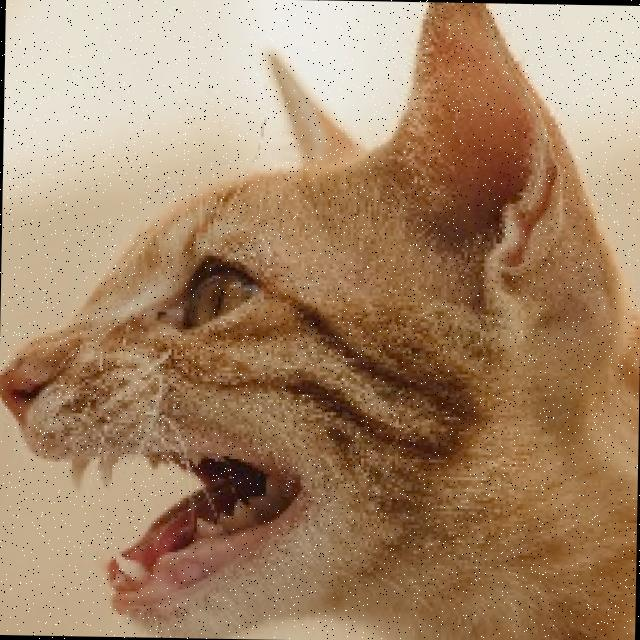Angry: (0, 179, 373, 640)
